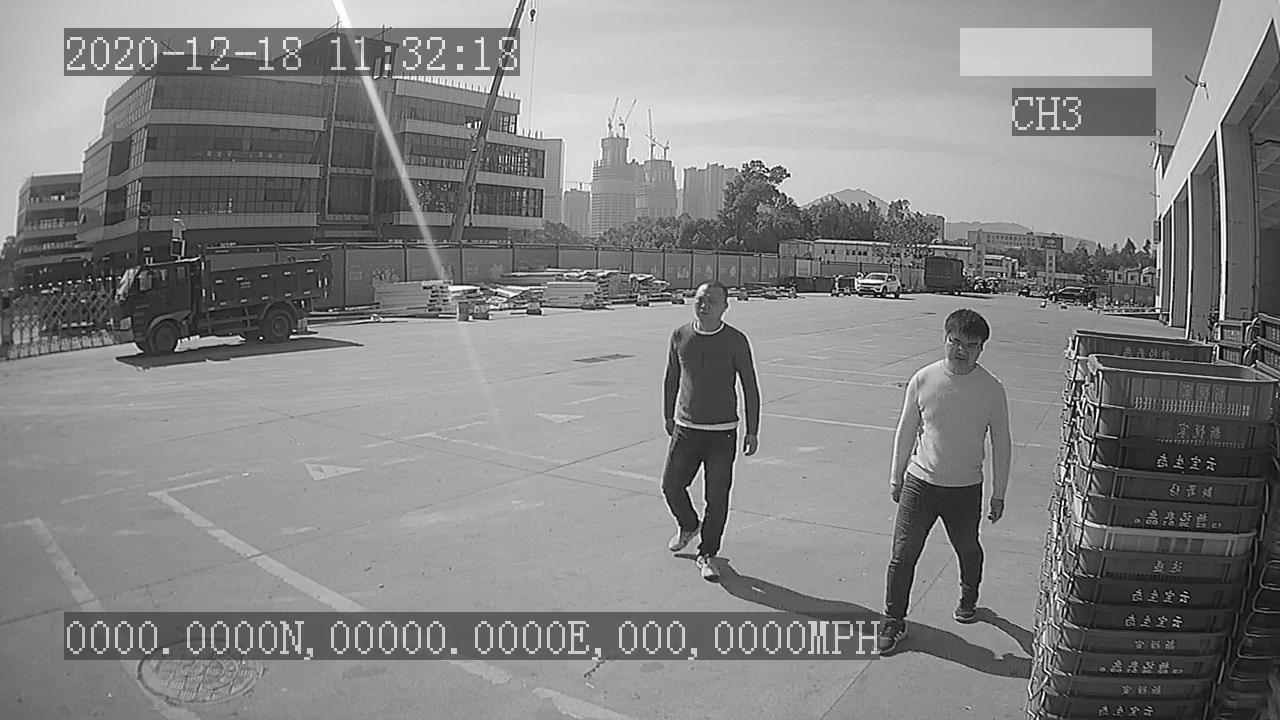person: (658, 277, 763, 581)
